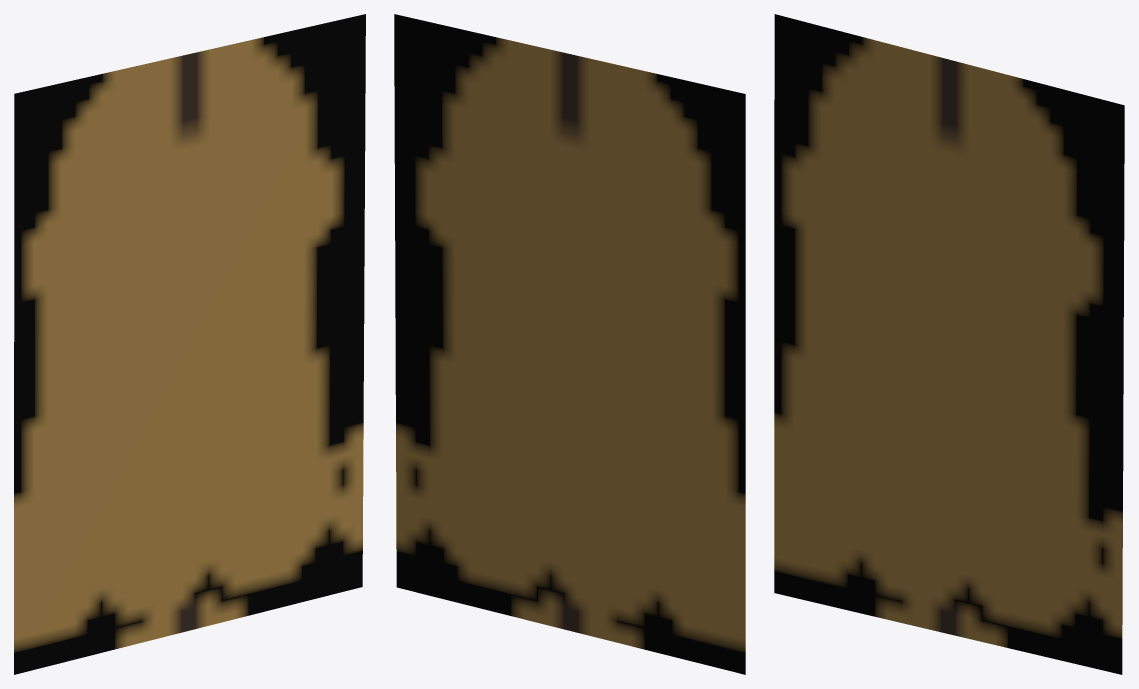
File: SM_KeyRing.fbx
The picture shows the model from 3 angles, left to right: view 1: azimuth 30°, elevation 25°; view 2: azimuth 150°, elevation 25°; view 3: azimuth 330°, elevation 25°; orthographic projection.
Parts seen in each view (by area): view 1: KeyRing_Visual; view 2: KeyRing_Visual; view 3: KeyRing_Visual.
Boxes of the visible parts, x1,y1,x2,y2 form: KeyRing_Visual: (14, 14, 365, 674); KeyRing_Visual: (394, 14, 745, 674); KeyRing_Visual: (774, 14, 1124, 674).
Bounding box in the file's own units: 0.1017 × 0.1605 × 0.00021.
